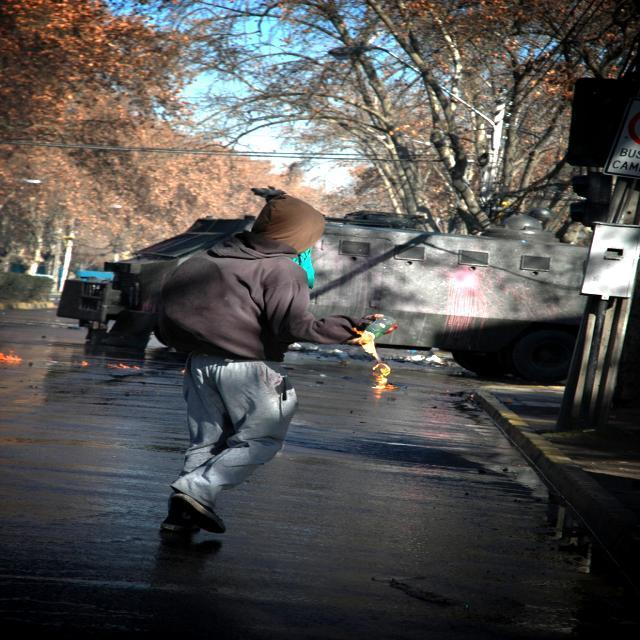Fire: (344, 326, 397, 401)
Smoke: (332, 216, 628, 320)
